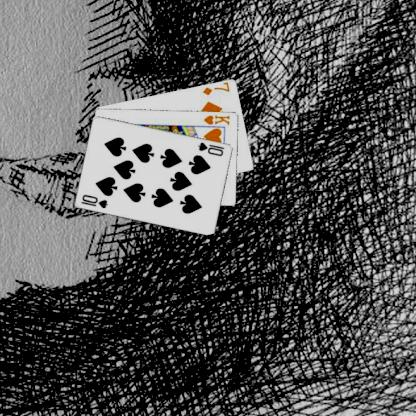10S: (195, 139, 226, 158), (78, 192, 110, 209)
7D: (200, 80, 231, 96)
KH: (201, 112, 231, 126)
